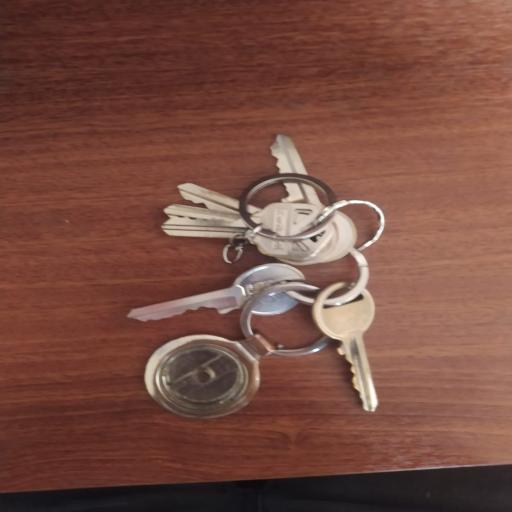Llaves: (118, 125, 395, 425)
